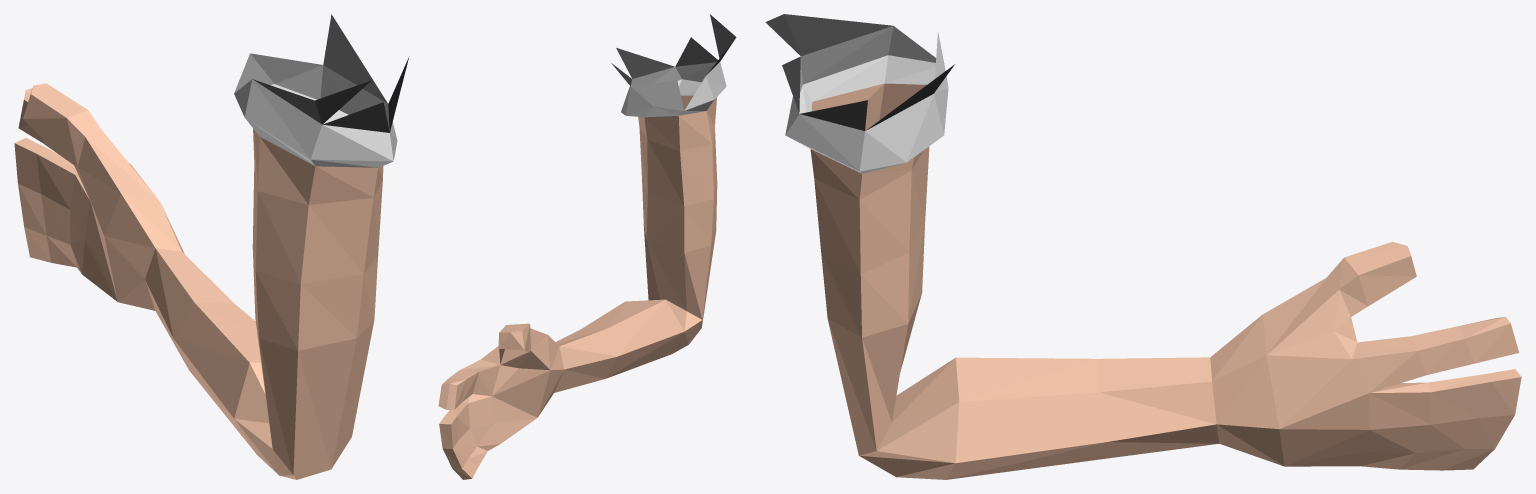
File: Mother_01_ArmR_96_04_A.obj
3 renders of one model, left to right at view 1: azimuth 30°, elevation 25°; view 2: azimuth 150°, elevation 25°; view 3: azimuth 270°, elevation 25°, orthographic. The views are drawn at different scales.
Parts seen in each view (by area): view 1: Mother_01_ArmR_96_04_A; view 2: Mother_01_ArmR_96_04_A; view 3: Mother_01_ArmR_96_04_A.
Part boxes in pixels (box(x1,y1,x2,y2)): Mother_01_ArmR_96_04_A: box(14, 14, 409, 479); Mother_01_ArmR_96_04_A: box(438, 14, 736, 479); Mother_01_ArmR_96_04_A: box(765, 14, 1521, 479).
Bounding box in the file's own units: 0.1419 × 0.3921 × 0.5905.
Materials: 1 (1 with a texture image).
